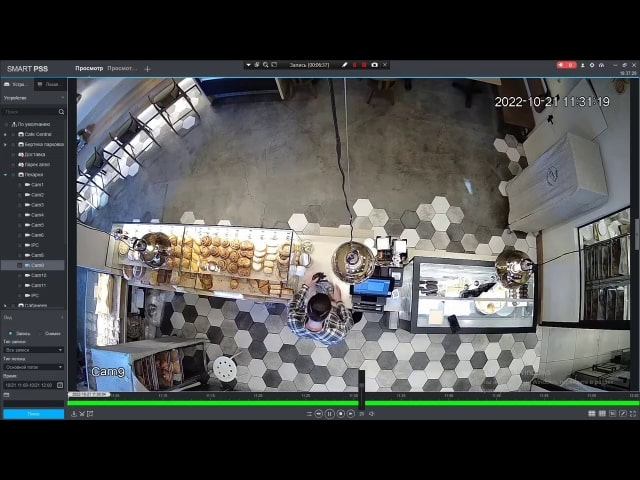barcounter: (109, 223, 538, 333)
person: (285, 286, 355, 338)
